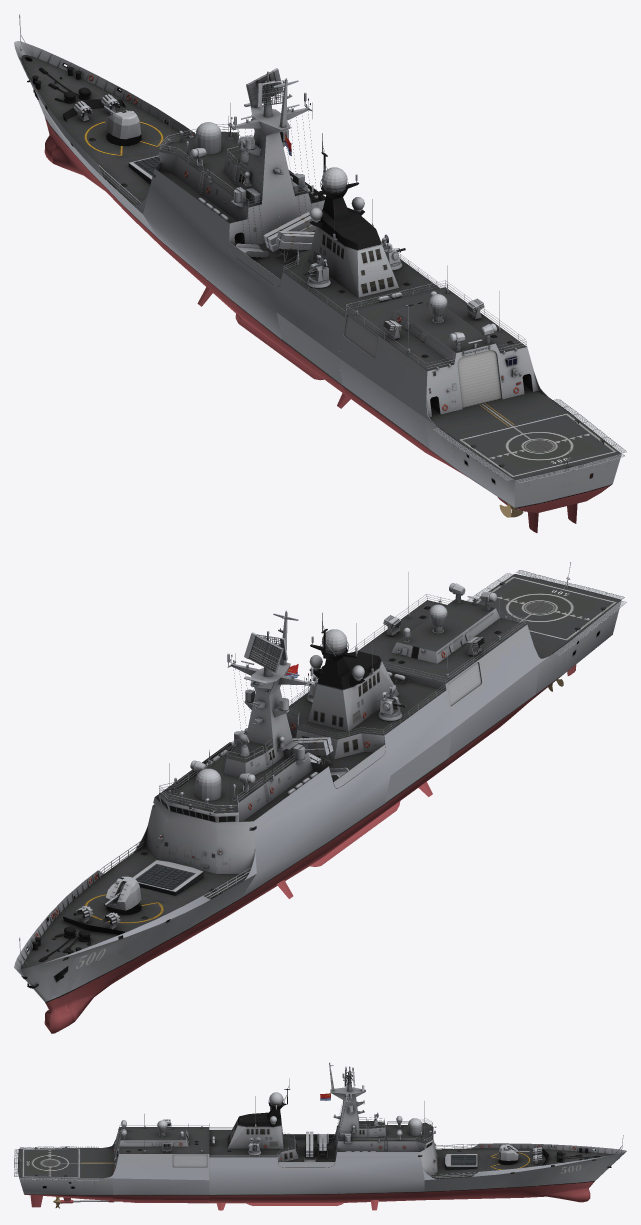
3 renders of one model, top to bottom at view 1: azimuth 30°, elevation 25°; view 2: azimuth 150°, elevation 25°; view 3: azimuth 270°, elevation 25°, orthographic. The views are drawn at different scales.
Visible parts, largest first — view 1: S_t054a; view 2: S_t054a; view 3: S_t054a.
Boxes of the visible parts, x1,y1,x2,y2 form: S_t054a: (14,14,626,532); S_t054a: (14,562,626,1033); S_t054a: (14,1062,626,1210).
Size of the model in its own units: 29.48 by 56.92 by 225.
6 materials, 6 textured.
